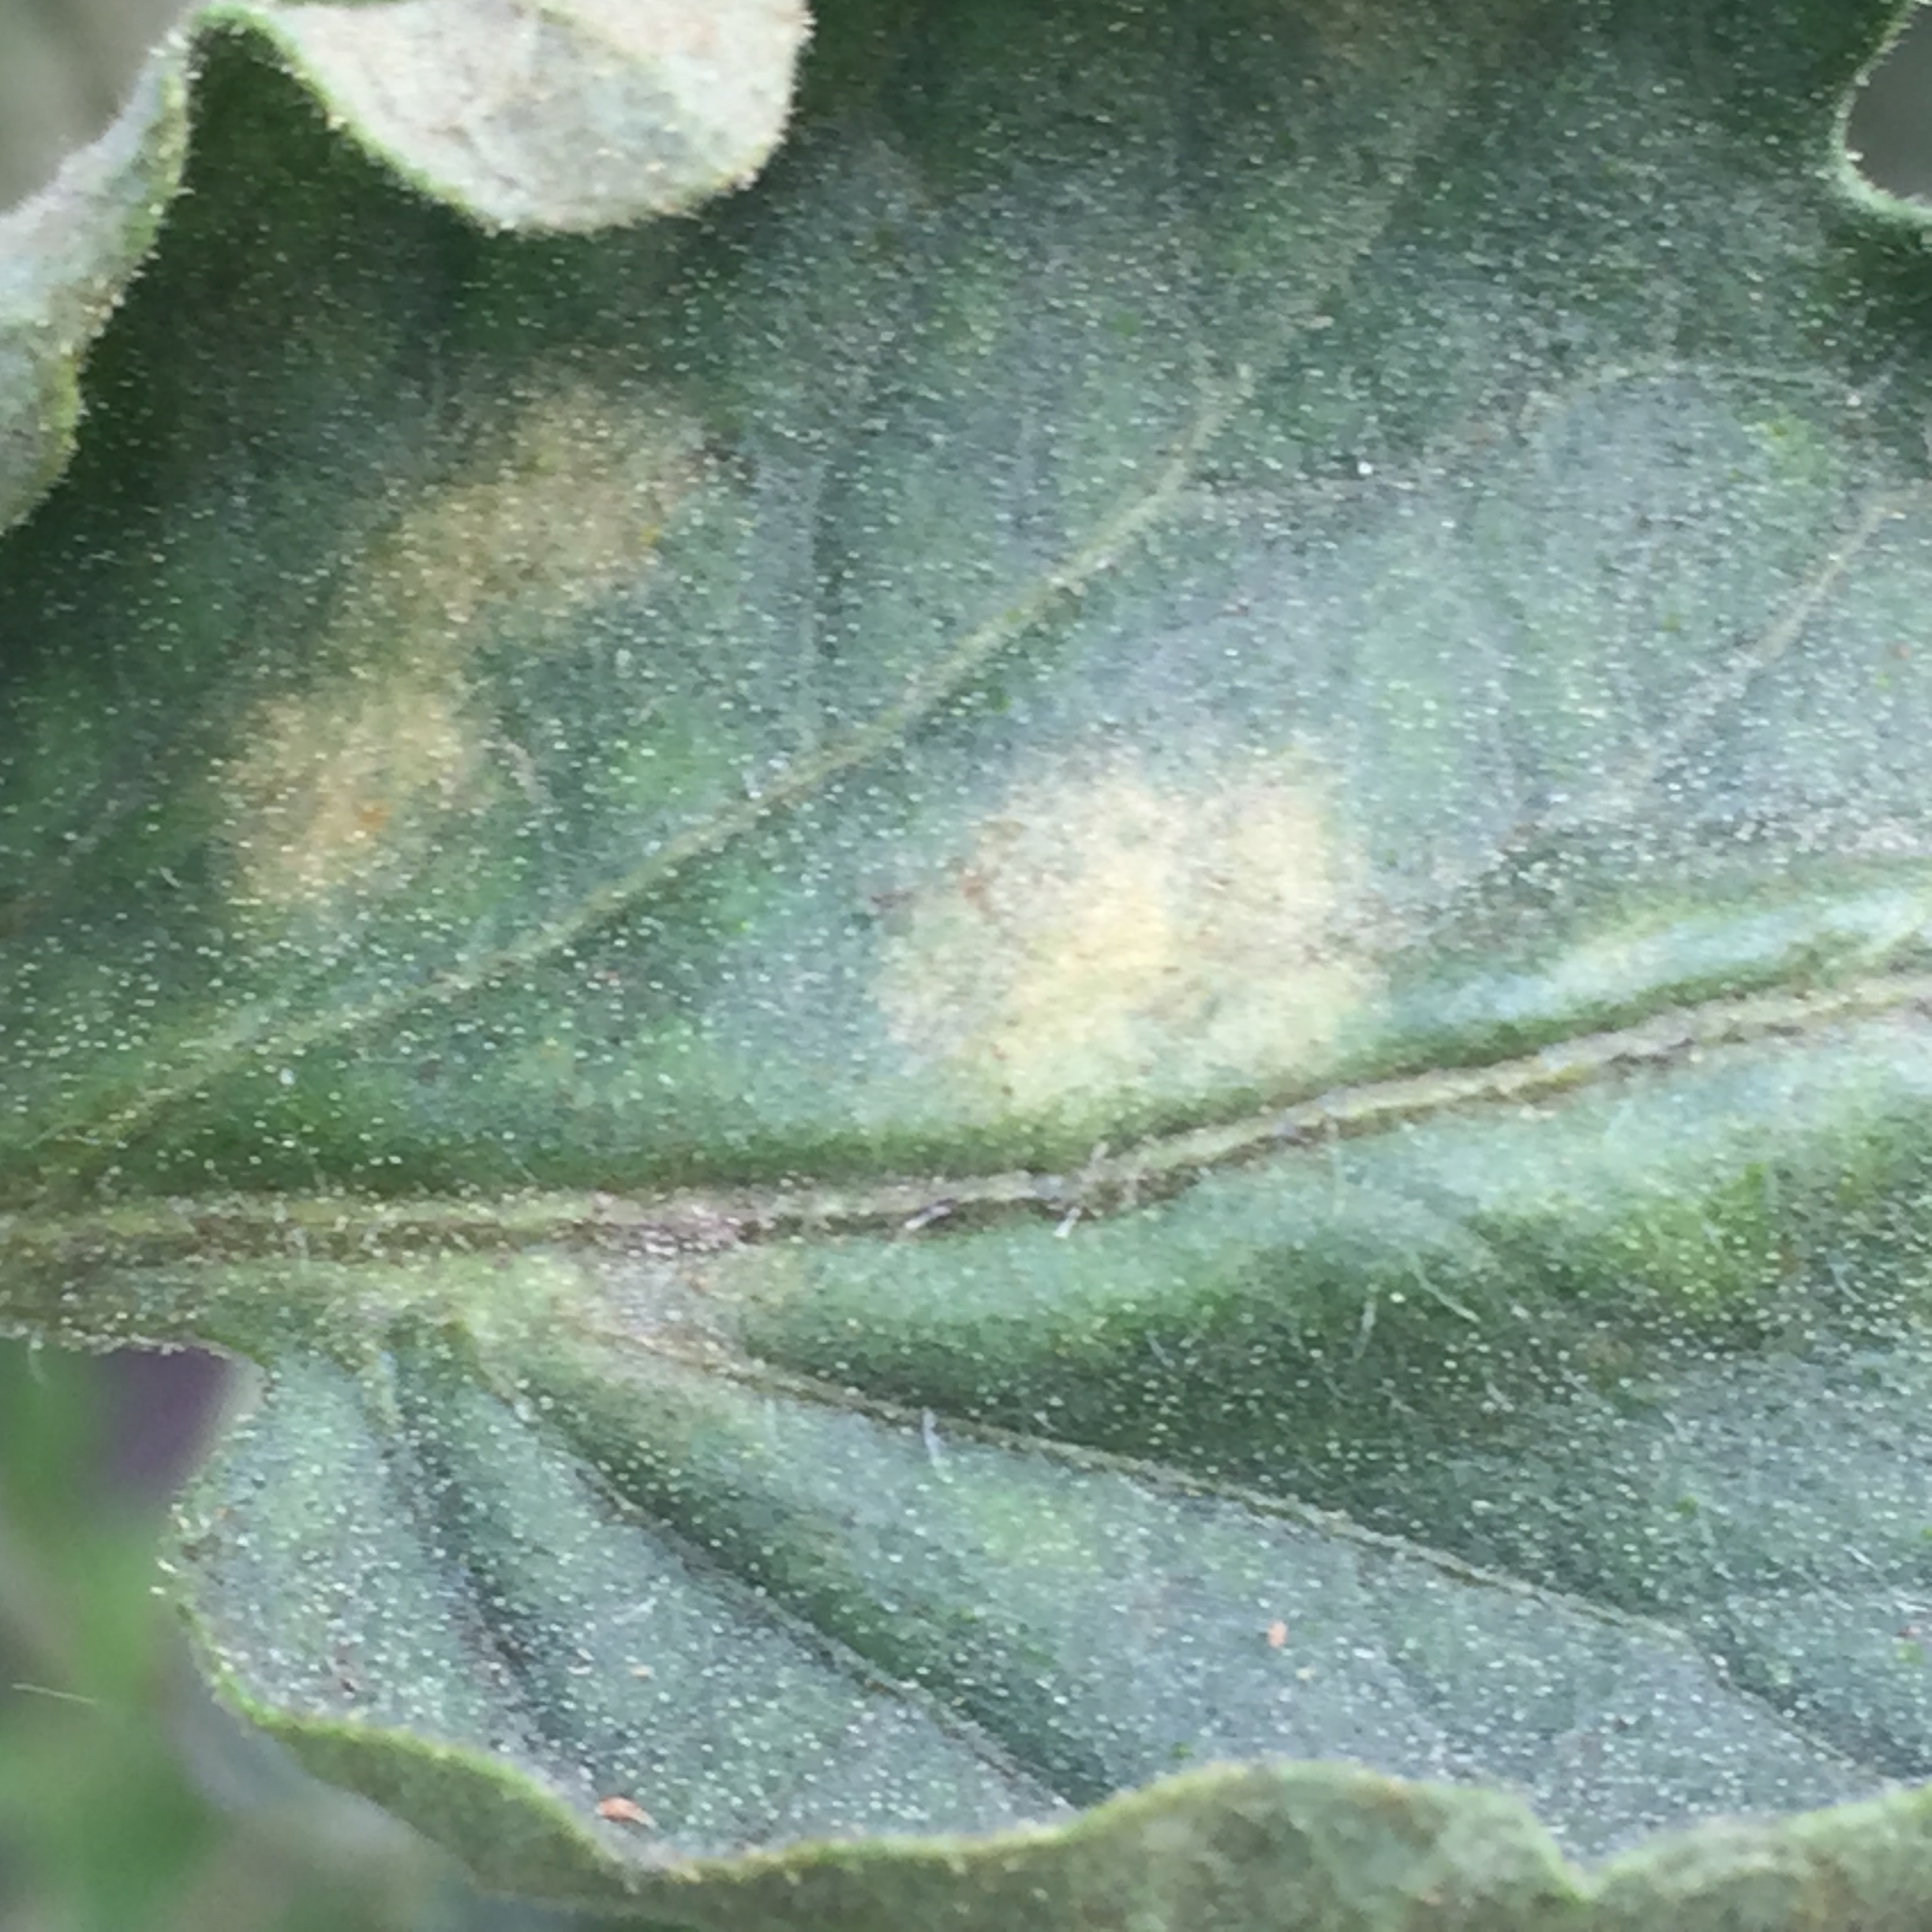blanca: (140, 334, 747, 962), (835, 740, 1410, 1146)
